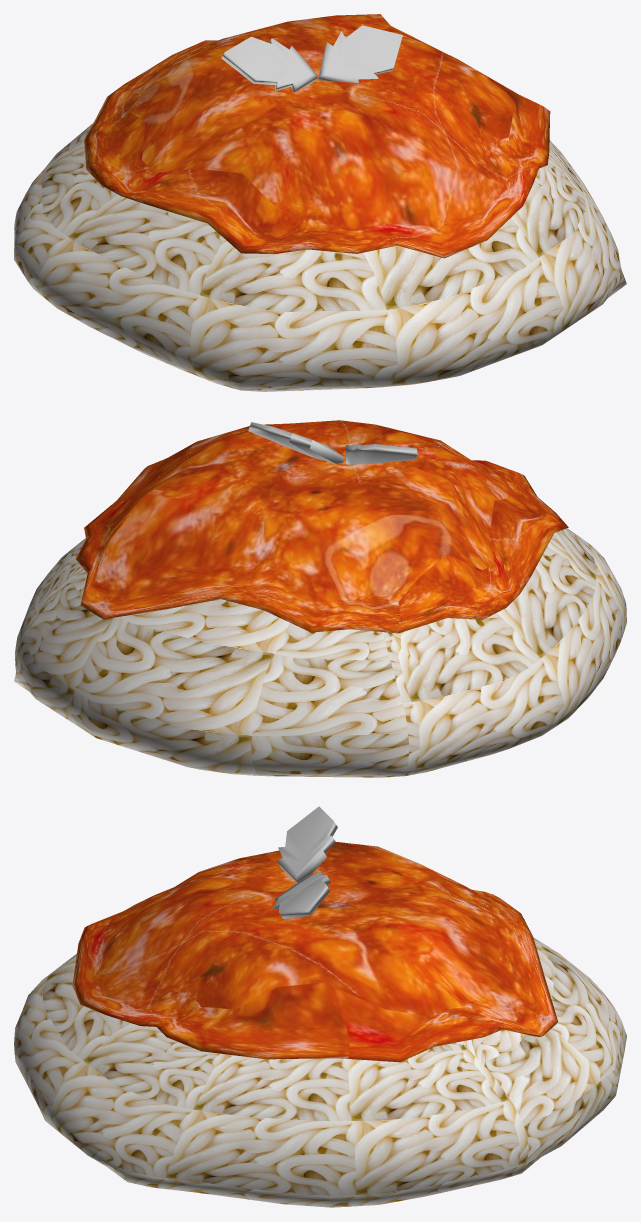
Rendered from Bologenese.fbx.
3 views of the same model, one above another, from view 1: azimuth 30°, elevation 25°; view 2: azimuth 150°, elevation 25°; view 3: azimuth 270°, elevation 25° (orthographic). The views are drawn at different scales.
Visible parts, largest first — view 1: pCube23; view 2: pCube23; view 3: pCube23.
Part boxes in pixels (x1=…): pCube23: x1=14, y1=14, x2=626, y2=391; pCube23: x1=14, y1=420, x2=626, y2=777; pCube23: x1=14, y1=806, x2=626, y2=1207.
Size of the model in its own units: 5.48 by 2.58 by 5.81.
